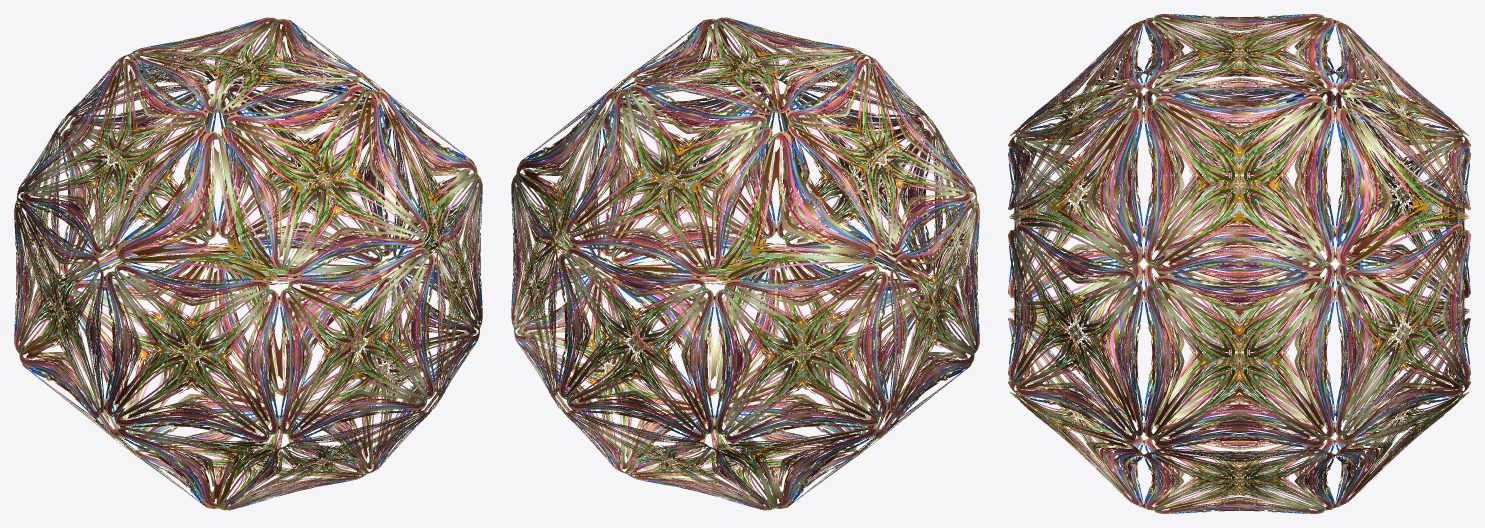
The model's file is Rhombicuboctahedron9.gltf.
3 renders of one model, left to right at view 1: azimuth 30°, elevation 25°; view 2: azimuth 150°, elevation 25°; view 3: azimuth 270°, elevation 25°, orthographic. The views are drawn at different scales.
Parts seen in each view (by area): view 1: Rhombicuboctahedron9; view 2: Rhombicuboctahedron9; view 3: Rhombicuboctahedron9.
Part boxes in pixels (x1,y1,x2,y2): Rhombicuboctahedron9: (14,17,482,510); Rhombicuboctahedron9: (511,17,979,510); Rhombicuboctahedron9: (1008,14,1470,513).
Bounding box in the file's own units: 2.41 × 2.41 × 2.41.
Materials: 1 (1 with a texture image).
